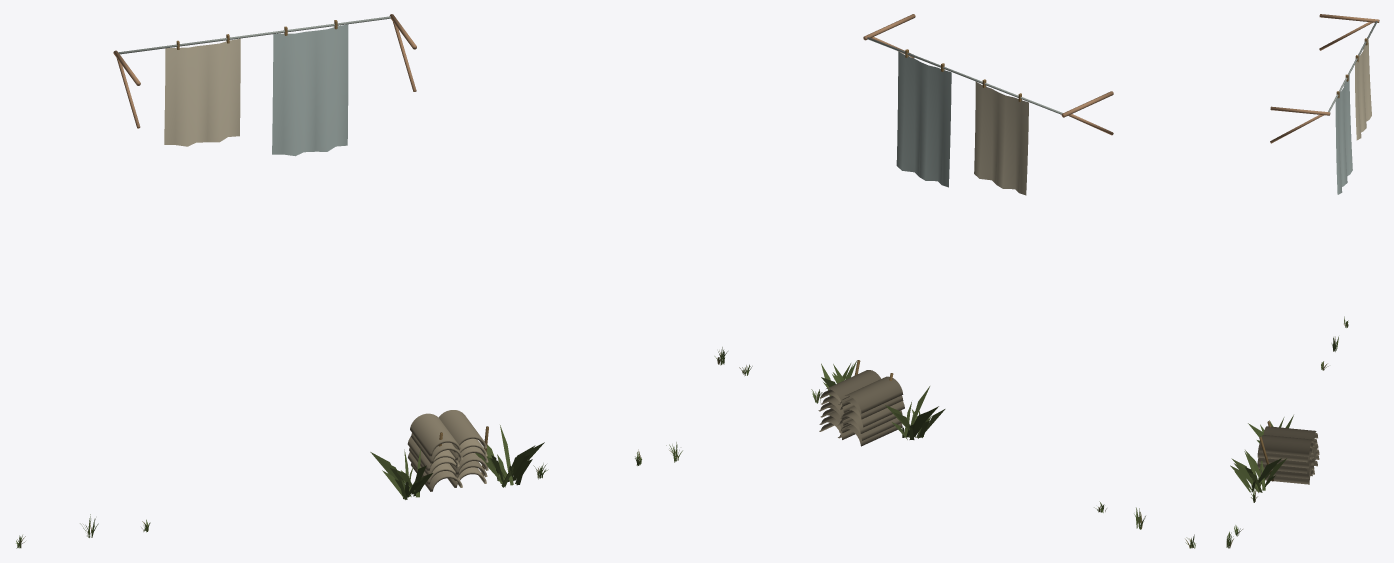
The model's file is tile_corner.glb.
The picture shows the model from 3 angles, left to right: view 1: azimuth 30°, elevation 25°; view 2: azimuth 150°, elevation 25°; view 3: azimuth 270°, elevation 25°; orthographic projection. The views are drawn at different scales.
Parts seen in each view (by area): view 1: linen, concrete.002, verge_green.002, rust.001, metal.001; view 2: linen, concrete.002, verge_green.002, rust.001, metal.001; view 3: concrete.002, linen, verge_green.002, rust.001, metal.001, wood.002.
Part boxes in pixels (x1,y1,x2,y2): linen: [164, 24, 348, 156]; concrete.002: [407, 410, 488, 491]; verge_green.002: [16, 425, 682, 548]; rust.001: [113, 14, 416, 128]; metal.001: [118, 16, 390, 54]; linen: [896, 51, 1028, 195]; concrete.002: [818, 370, 904, 446]; verge_green.002: [714, 347, 1195, 548]; rust.001: [863, 14, 1113, 135]; metal.001: [867, 37, 1062, 114]; concrete.002: [1257, 426, 1319, 484]; linen: [1335, 39, 1371, 194]; verge_green.002: [1226, 316, 1348, 548]; rust.001: [1270, 14, 1379, 143]; metal.001: [1328, 21, 1377, 112]; wood.002: [1259, 38, 1367, 481].
Bounding box in the file's own units: 4.99 × 3.65 × 1.43.
